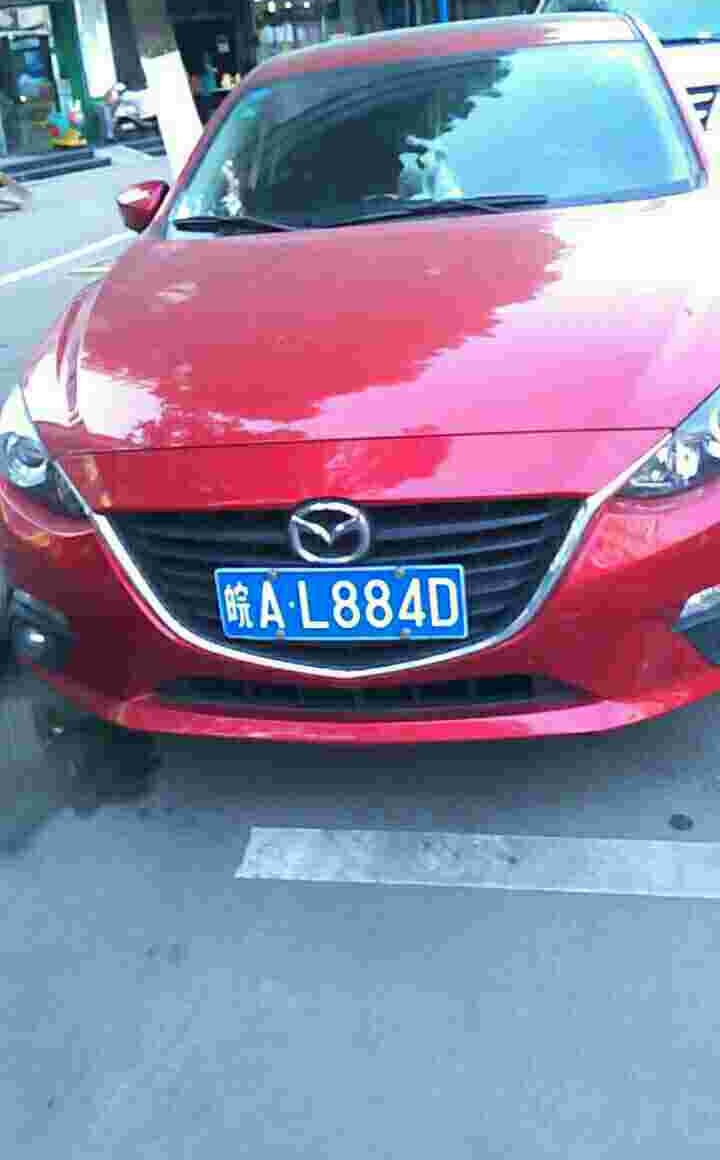license_plate: (203, 559, 474, 654)
